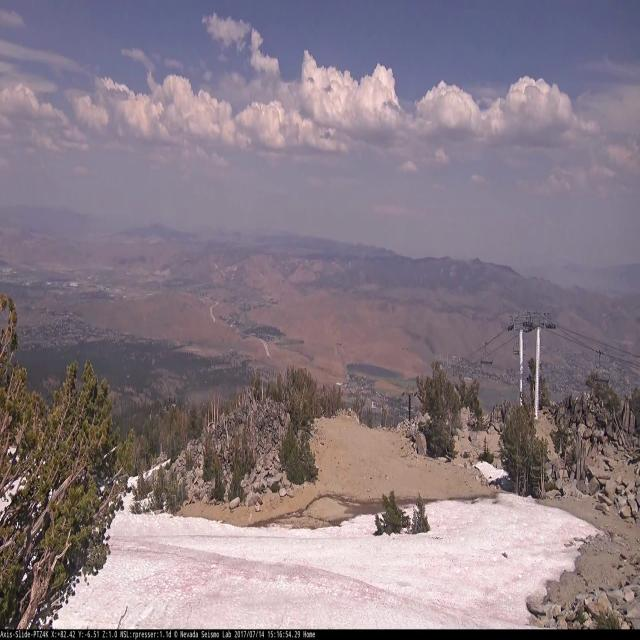smoke: (402, 321, 437, 359)
